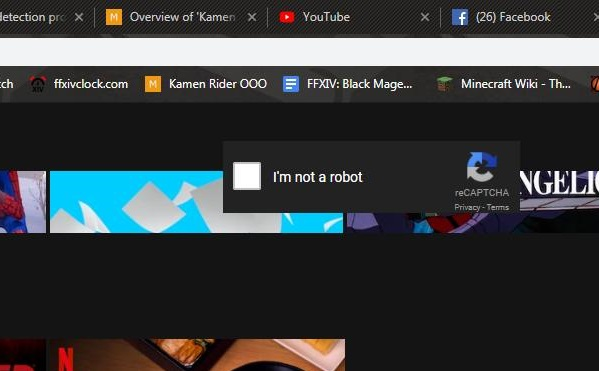captcha: (233, 161, 366, 190)
